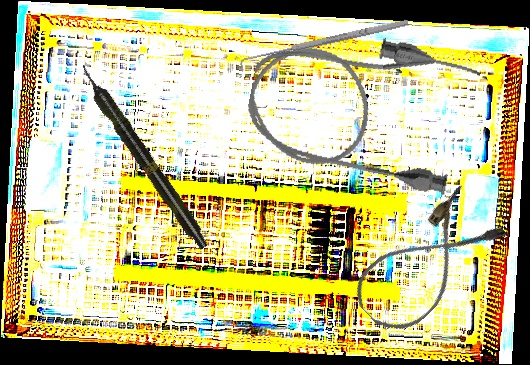Cannula: (238, 15, 484, 199), (344, 182, 511, 345)
Handpiece: (74, 60, 213, 253)
Hook Surgical: (238, 16, 411, 73)
